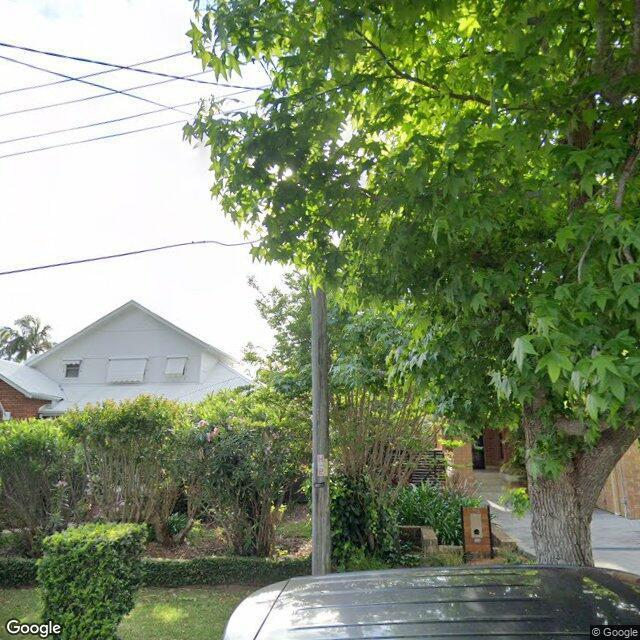timber-pole: (310, 289, 334, 579)
